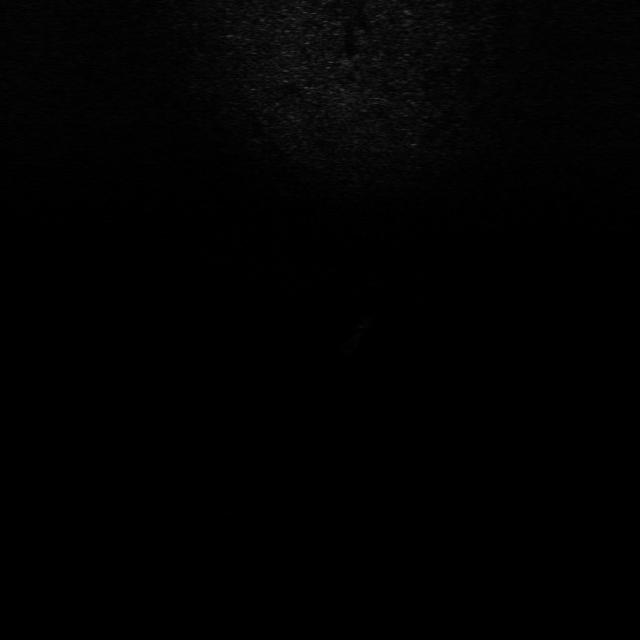human body: (329, 312, 377, 356)
